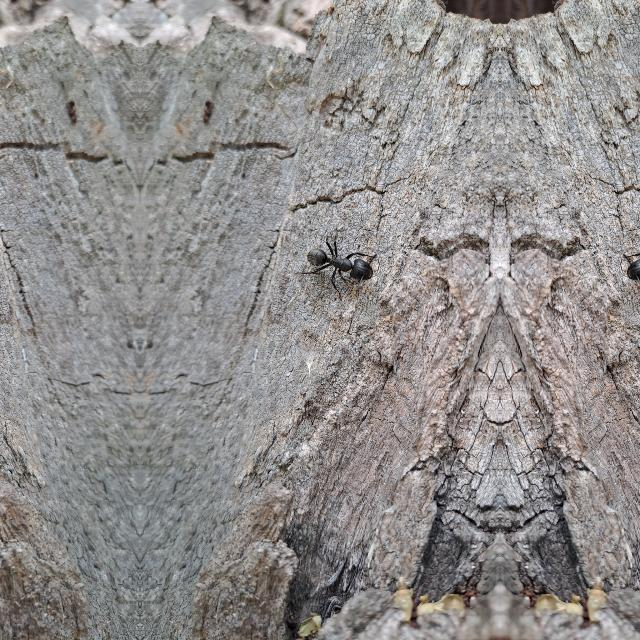Camponotus: (285, 220, 389, 304), (610, 220, 640, 302)
